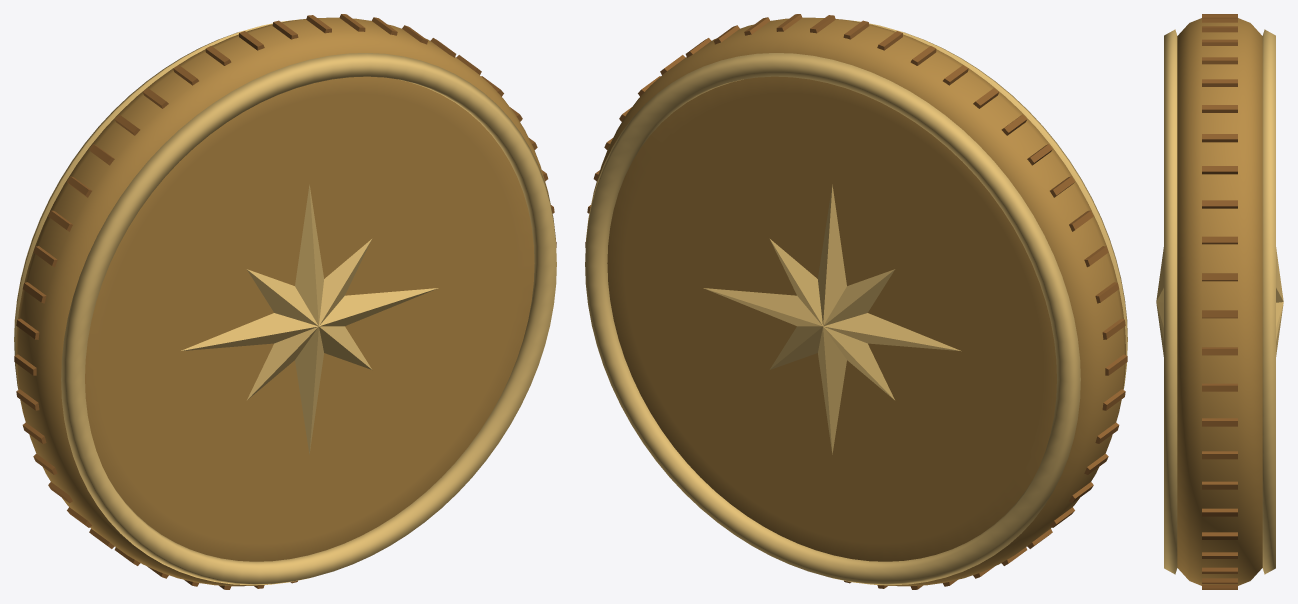
Rendered from scratch_coin.glb.
The picture shows the model from 3 angles, left to right: view 1: azimuth 30°, elevation 25°; view 2: azimuth 150°, elevation 25°; view 3: azimuth 270°, elevation 25°; orthographic projection. The views are drawn at different scales.
Parts seen in each view (by area): view 1: Minted brass blank, Raised face rim.001, Stamped compass emblem.001, Reeded edge, Raised face rim; view 2: Minted brass blank, Raised face rim, Stamped compass emblem, Reeded edge, Raised face rim.001; view 3: Minted brass blank, Raised face rim, Raised face rim.001, Reeded edge, Stamped compass emblem, Stamped compass emblem.001.
Part boxes in pixels (bbox=[...]): Minted brass blank: bbox=[16, 17, 548, 586]; Raised face rim.001: bbox=[61, 53, 556, 585]; Stamped compass emblem.001: bbox=[180, 184, 438, 454]; Reeded edge: bbox=[14, 14, 556, 589]; Raised face rim: bbox=[14, 19, 299, 402]; Minted brass blank: bbox=[593, 17, 1125, 586]; Raised face rim: bbox=[585, 53, 1080, 585]; Stamped compass emblem: bbox=[703, 184, 961, 454]; Reeded edge: bbox=[585, 14, 1127, 589]; Raised face rim.001: bbox=[842, 19, 1127, 402]; Minted brass blank: bbox=[1177, 18, 1262, 585]; Raised face rim: bbox=[1262, 29, 1275, 574]; Raised face rim.001: bbox=[1164, 29, 1177, 574]; Reeded edge: bbox=[1202, 14, 1237, 589]; Stamped compass emblem: bbox=[1276, 247, 1283, 356]; Stamped compass emblem.001: bbox=[1156, 247, 1163, 356].
Bounding box in the file's own units: 0.452 × 0.452 × 0.1.
